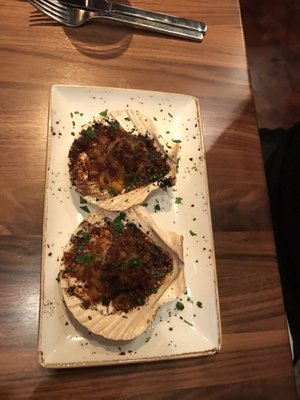burger: (24, 0, 209, 42)
sandwich: (26, 0, 208, 42)
